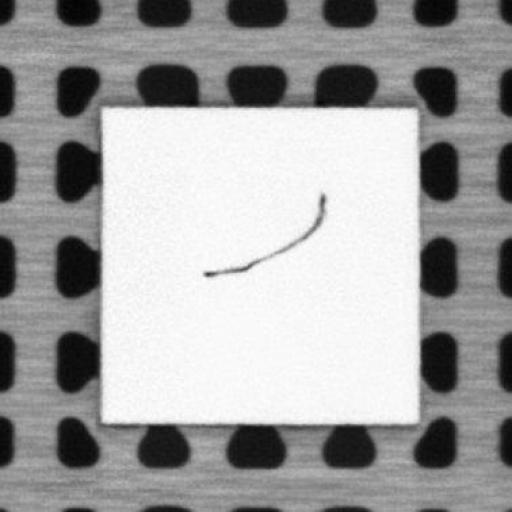DIE_INK: (202, 192, 328, 277)
